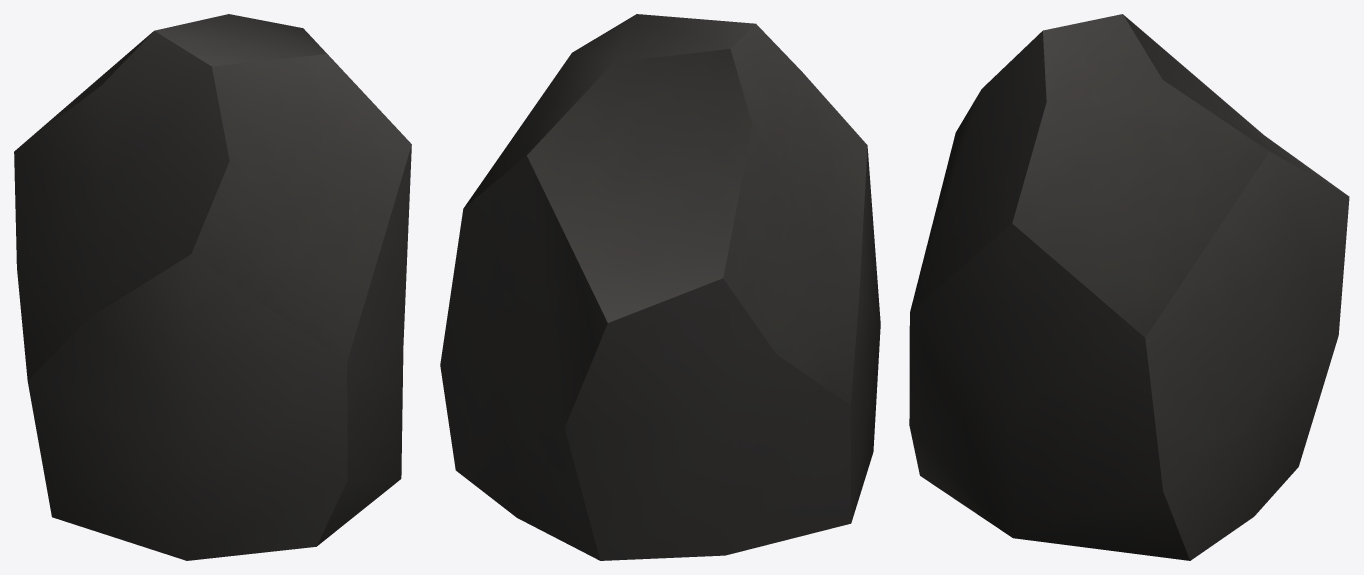
The model's file is Batu_Kecil.fbx.
3 views of the same model, side by side, from view 1: azimuth 30°, elevation 25°; view 2: azimuth 150°, elevation 25°; view 3: azimuth 270°, elevation 25° (orthographic). The views are drawn at different scales.
Parts seen in each view (by area): view 1: Rock_3; view 2: Rock_3; view 3: Rock_3.
Part boxes in pixels (x1,y1,x2,y2): Rock_3: (14, 14, 411, 560); Rock_3: (440, 14, 880, 560); Rock_3: (909, 14, 1349, 560).
Size of the model in its own units: 92.46 by 102 by 93.65.
